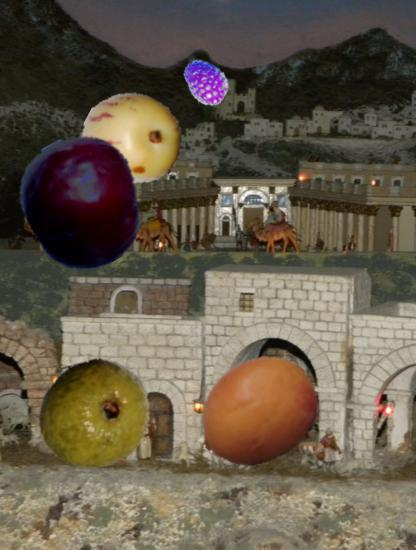Apricot: (198, 351, 321, 474)
Guava: (36, 356, 153, 473)
Pepino: (82, 89, 182, 189)
Plum: (16, 136, 149, 269)
Raspberry: (179, 58, 230, 109)
